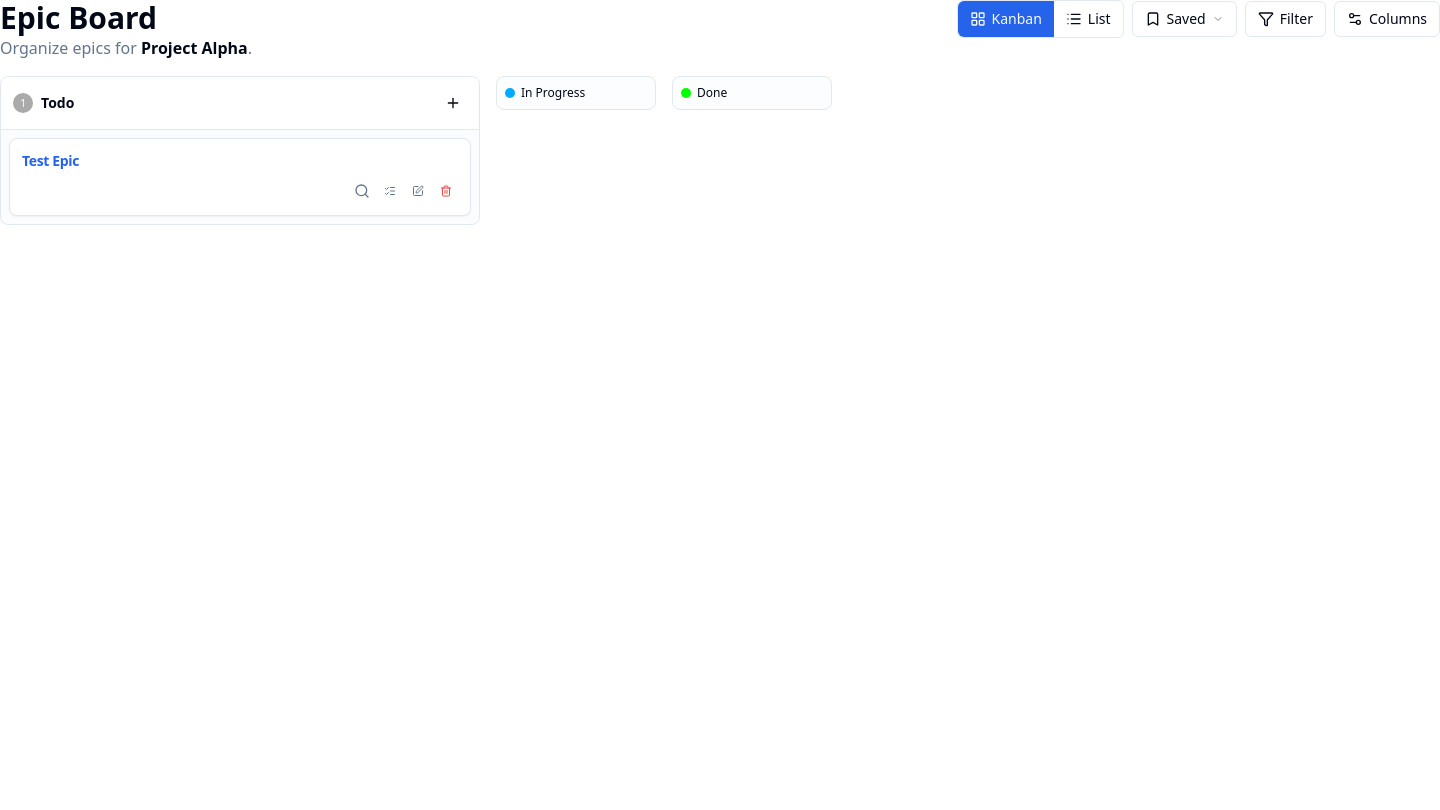
Test: BoardPage — Saved filters integration › updates view mode on apply
Expected: the button "Test Epic" is shown, [22,151,79,171]
Note: Open saved filters dropdown
Click the button with aria-label "saved filters".
click(1184, 19)  # box [1132,1,1237,37]
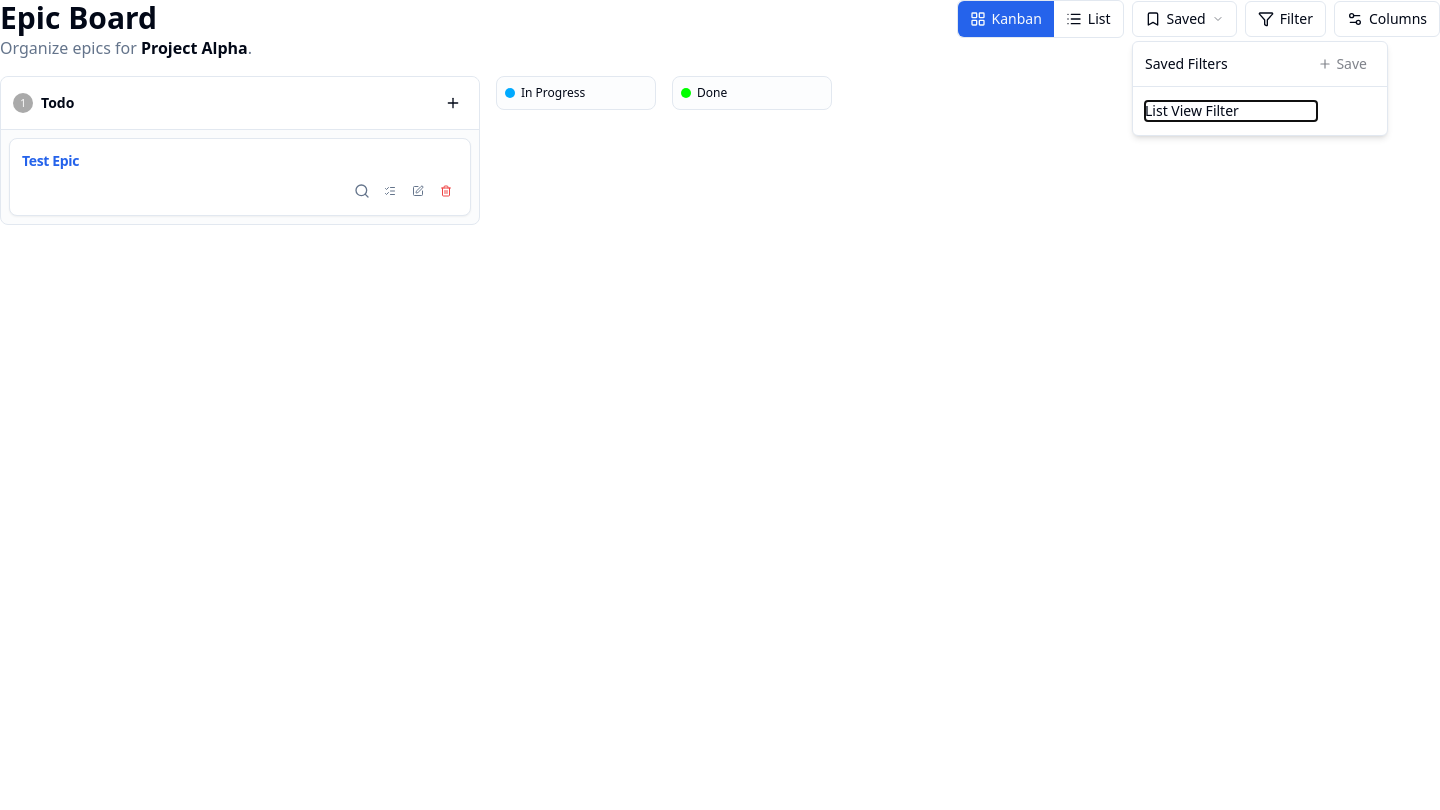
Expected: the button "List View Filter" is shown
Note: Apply saved filter with list view
Click the button "List View Filter".
click(1231, 111)  # box [1145,101,1317,121]
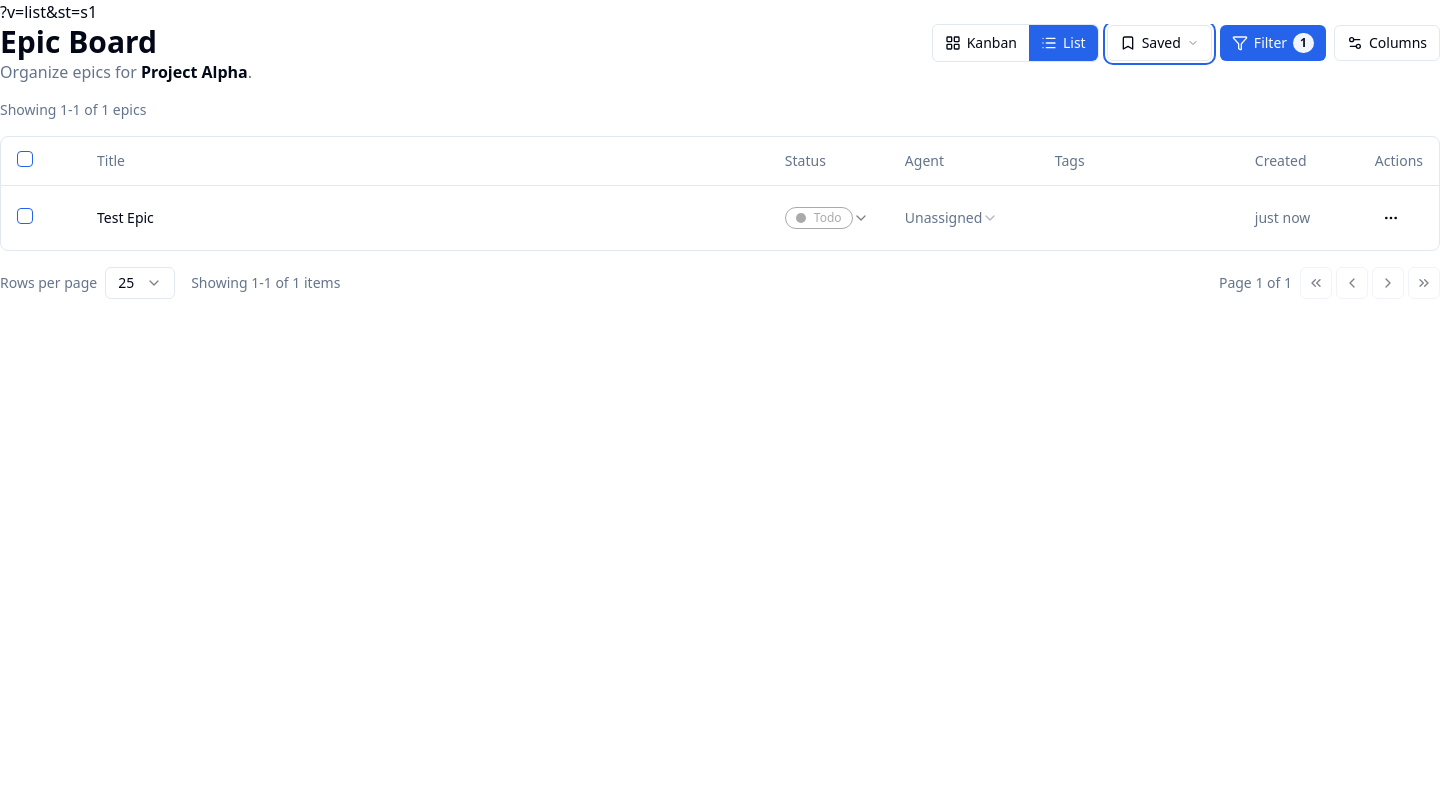
Expected: the text with test id "loc-search" shows "v=list", [0,1,97,23]
Expected: the text with test id "loc-search" shows "st=s1", [0,1,97,23]
